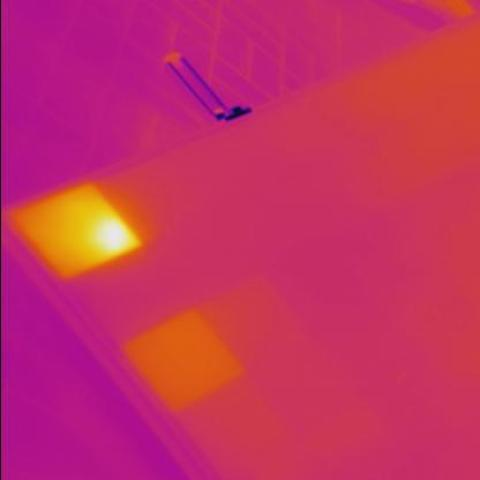fault: (94, 209, 140, 251)
